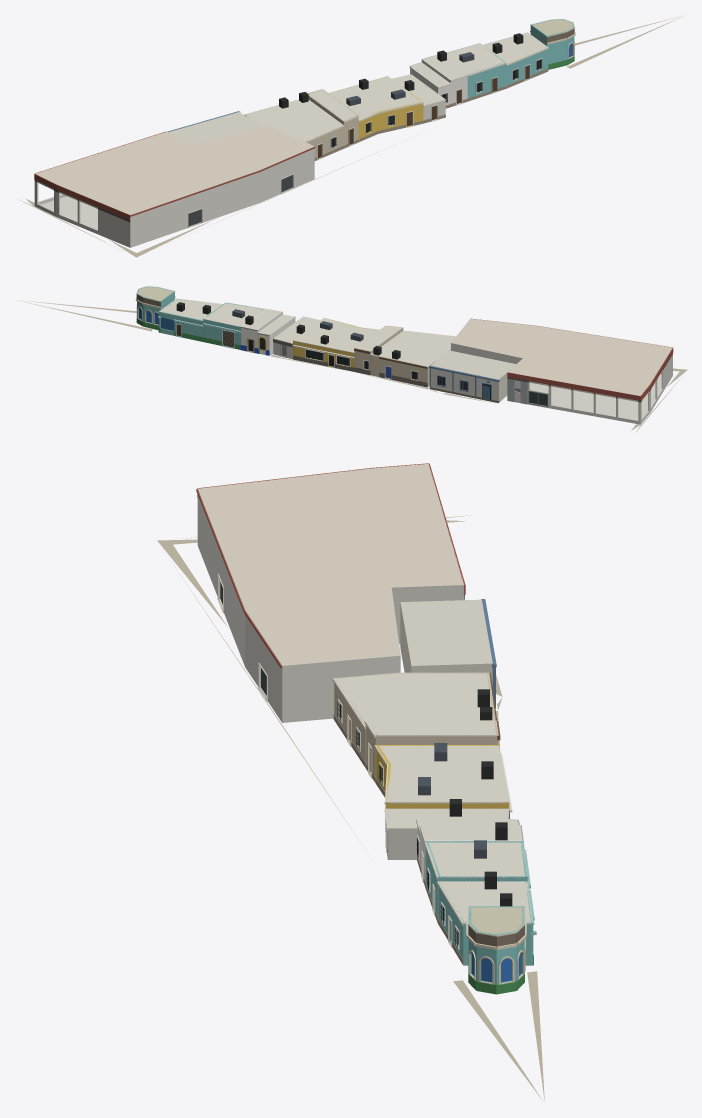
3 renders of one model, top to bottom at view 1: azimuth 30°, elevation 25°; view 2: azimuth 150°, elevation 25°; view 3: azimuth 270°, elevation 25°, orthographic. The views are drawn at different scales.
Parts seen in each view (by area): view 1: edificio; view 2: edificio; view 3: edificio.
Part boxes in pixels (x1,y1,x2,y2): edificio: (18, 16, 683, 257); edificio: (16, 286, 687, 432); edificio: (157, 463, 544, 1102).
Bounding box in the file's own units: 120 × 5.65 × 33.27.
